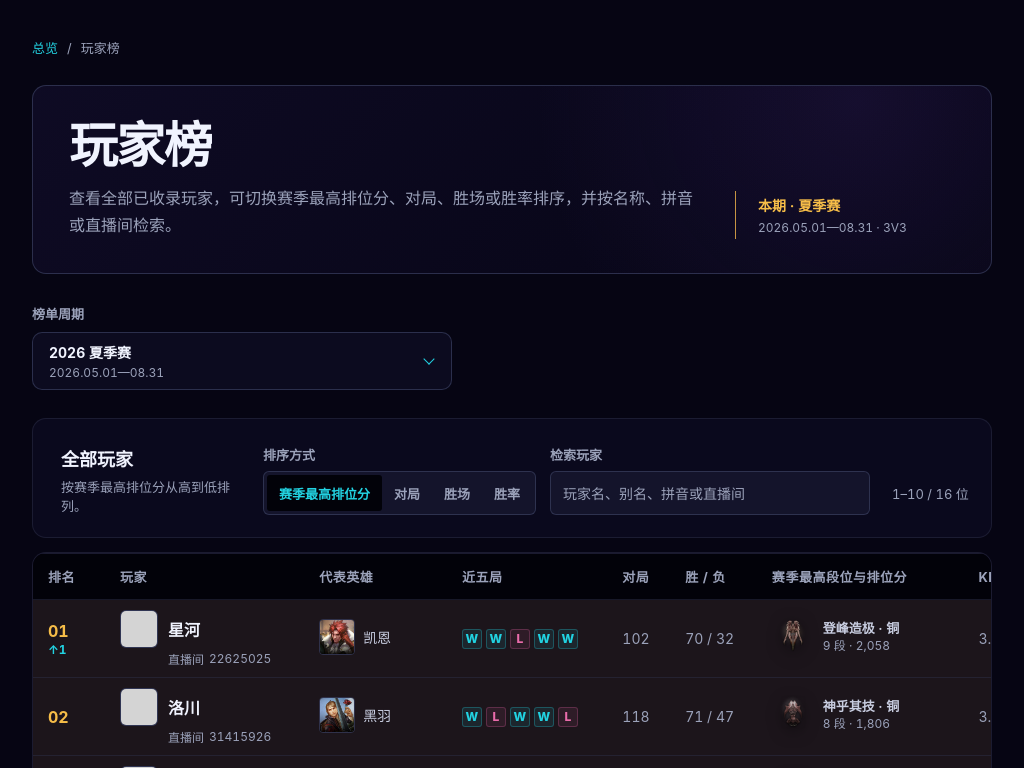
Test case: PlayerRankingsPageComponent › labels seasonal peaks and all-time aggregate ratings explicitly
Step 1. Click the button with class "season-trigger" → click(90, 353), box [32,332,452,390]
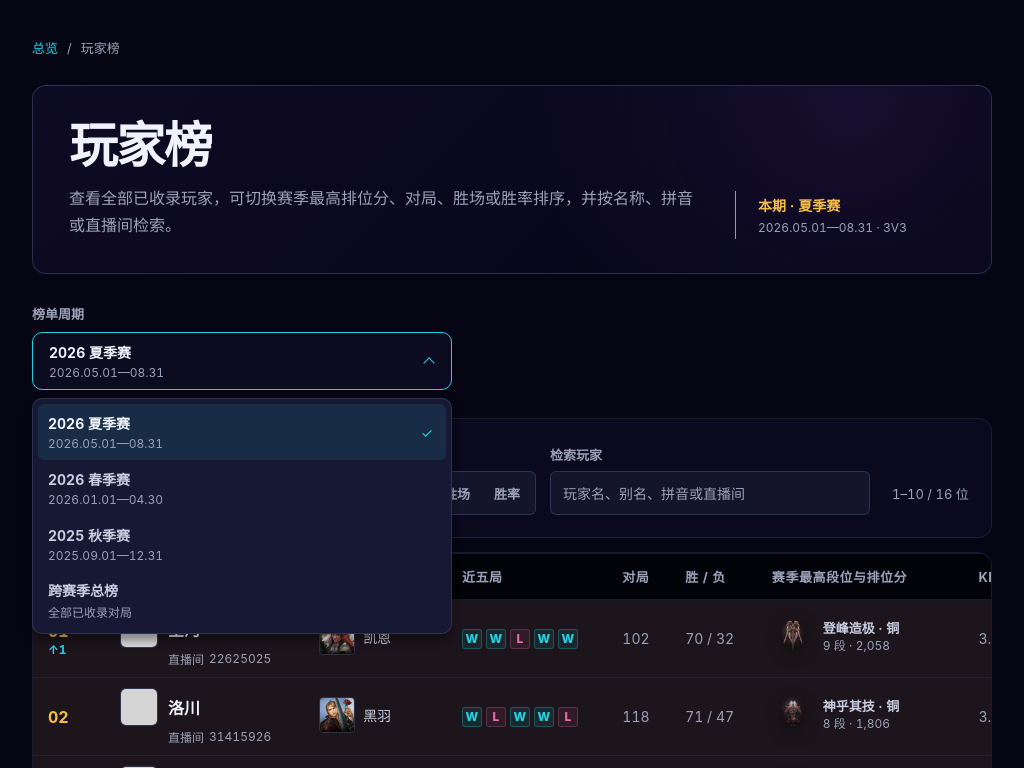
Step 2. Click the option "跨赛季总榜 全部已收录对局" → click(83, 591), box [38,572,446,628]
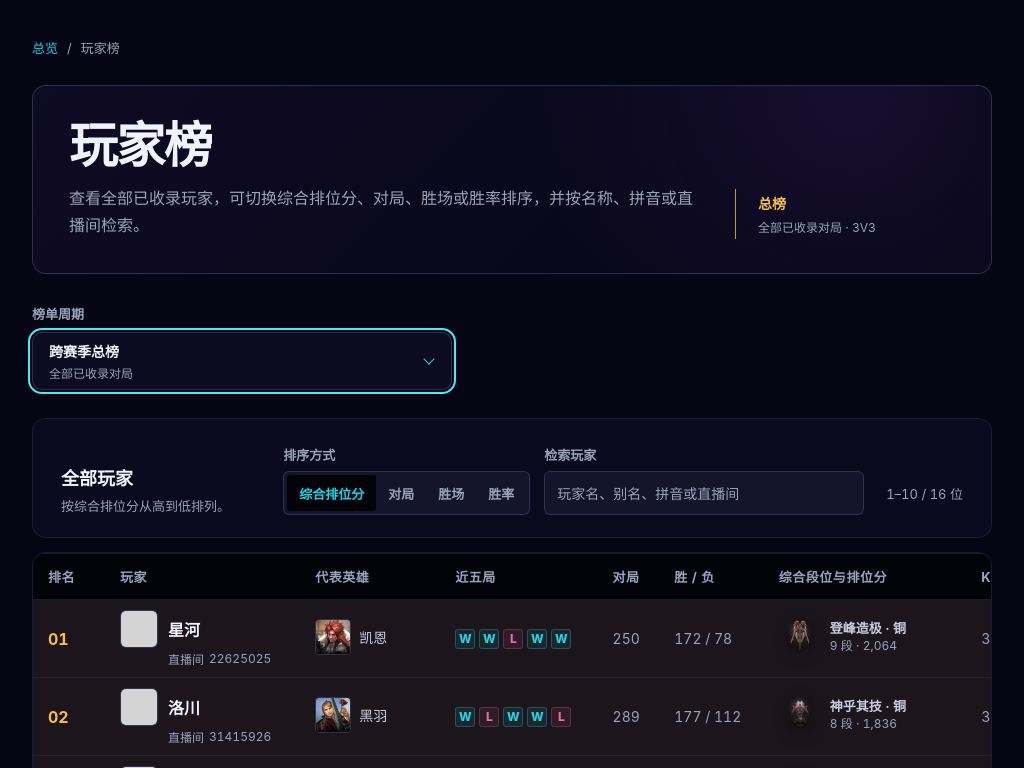
Now the button "综合排位分" is shown, box [287,475,376,511]
Now the header with class "directory-toolbar" shows "按综合排位分从高到低排列", box [61,498,230,514]
Now the column heading "综合段位与排位分" is shown, box [764,554,966,600]
